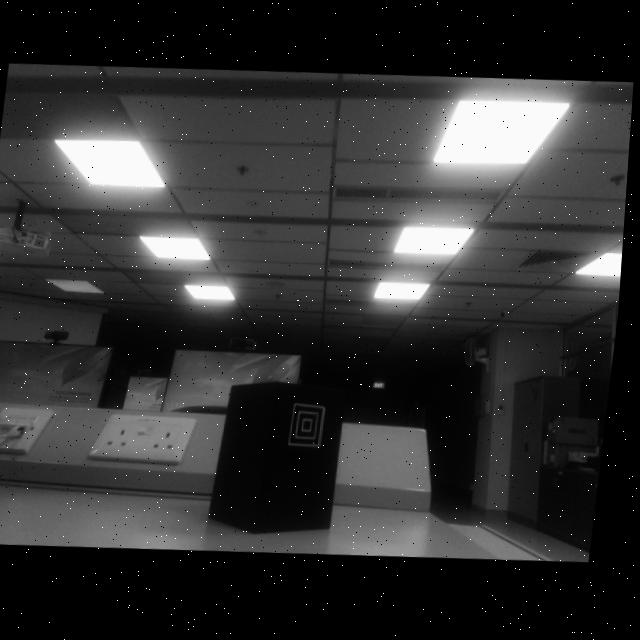BULLSEYE: (295, 406, 330, 450)
